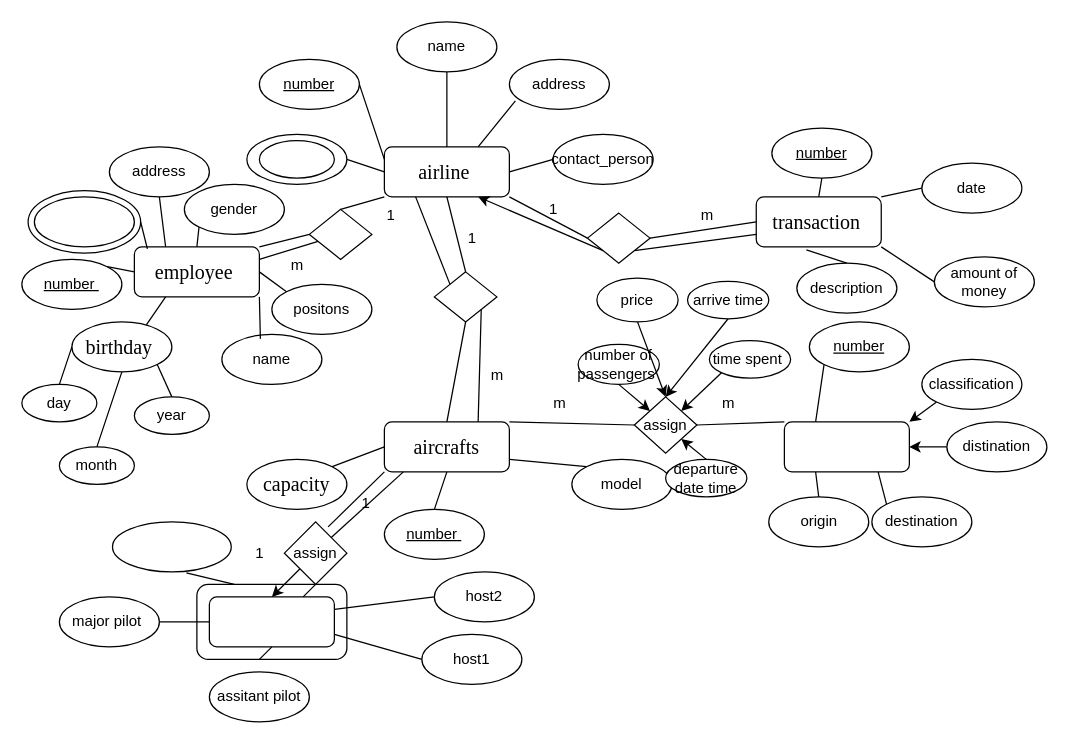
Some shapes in this 1069 by 744 pixel diagram are drawn without their labels. The centre of each missing label's shape, as x and y in pixels:
"crew" belongs at point 271,621.
"id" belongs at point 171,546.
"owns" belongs at point 465,296.
"qualifications" belongs at point 83,221.
"route" belongs at point 846,446.
"sell or pay" belongs at point 618,237.
"telphone numbers" belongs at point 296,158.
"works in" belongs at point 340,233.
